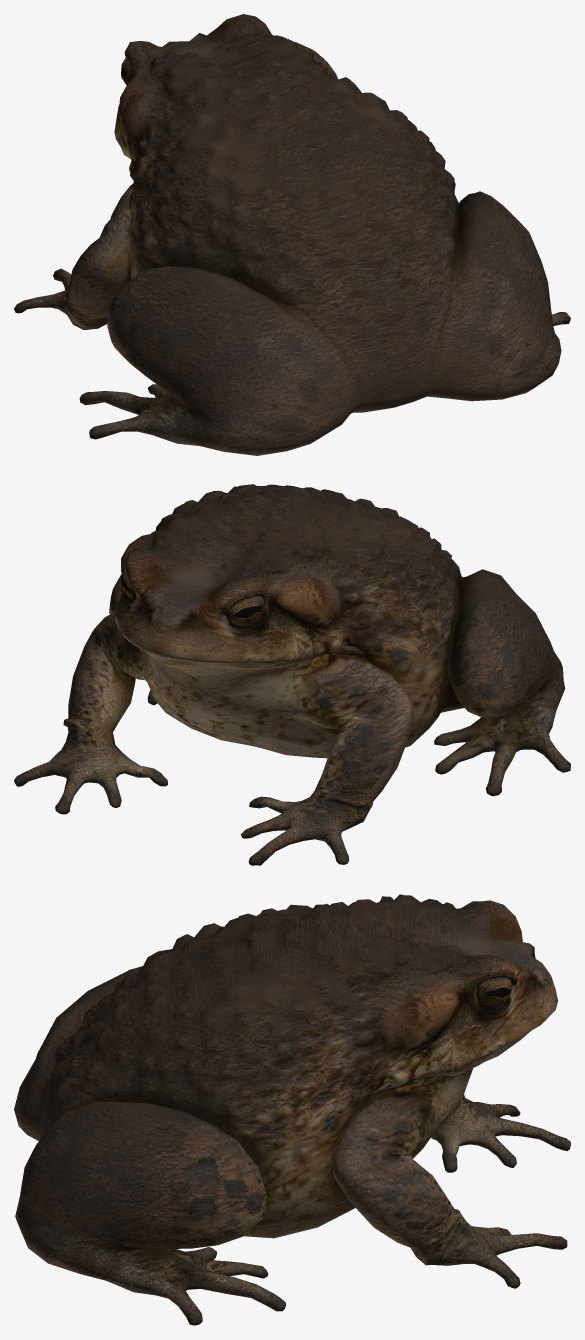
File: threshold-toad-a-v01.glb
The picture shows the model from 3 angles, top to bottom: view 1: azimuth 30°, elevation 25°; view 2: azimuth 150°, elevation 25°; view 3: azimuth 270°, elevation 25°; orthographic projection. The views are drawn at different scales.
Visible parts, largest first — view 1: tripo_node_f0d8db1d-3f04-45c2-a961-6e98e1854b50; view 2: tripo_node_f0d8db1d-3f04-45c2-a961-6e98e1854b50; view 3: tripo_node_f0d8db1d-3f04-45c2-a961-6e98e1854b50.
Boxes of the visible parts, x1,y1,x2,y2 form: tripo_node_f0d8db1d-3f04-45c2-a961-6e98e1854b50: [14, 14, 570, 455]; tripo_node_f0d8db1d-3f04-45c2-a961-6e98e1854b50: [14, 484, 570, 865]; tripo_node_f0d8db1d-3f04-45c2-a961-6e98e1854b50: [14, 894, 570, 1325].
Size of the model in its own units: 0.4088 by 0.2152 by 0.38.
Materials: 1 (1 with a texture image).
